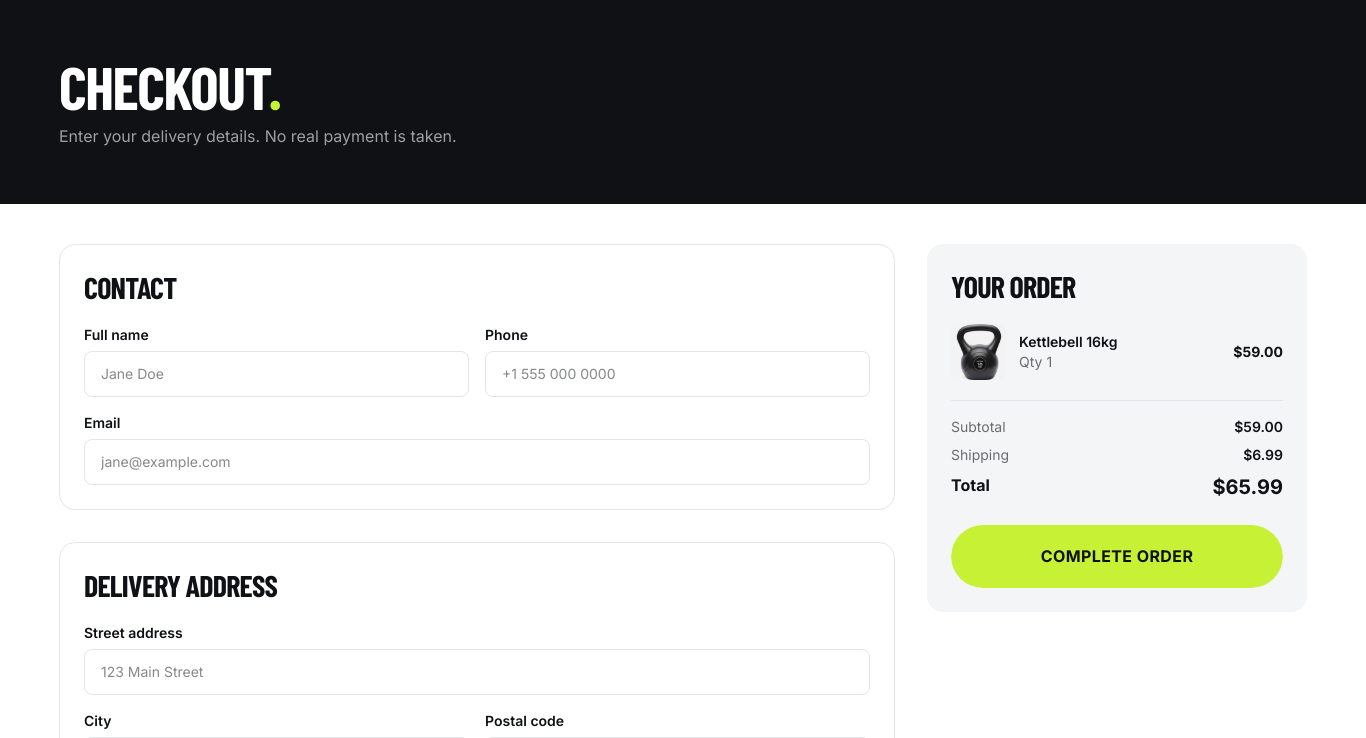
Test case: Checkout › shows validation errors next to the fields for an invalid form
The width and height of the screenshot is (1366, 738).
Click the button "Complete Order": [1117, 556] box [951,525,1283,588]
(page scrolled)
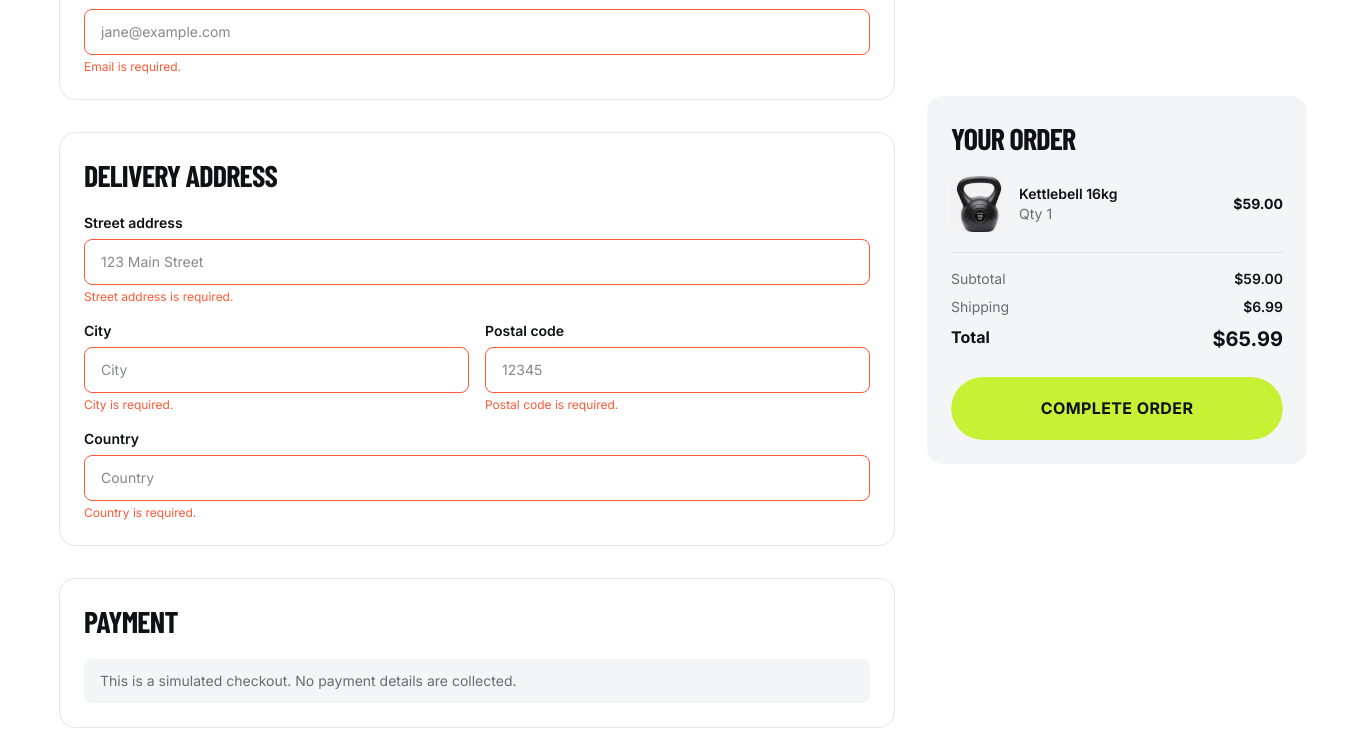
Expected: the text "Email is required." is shown, [84,59,181,74]
Expected: the text "Country is required." is shown, [84,505,196,520]
